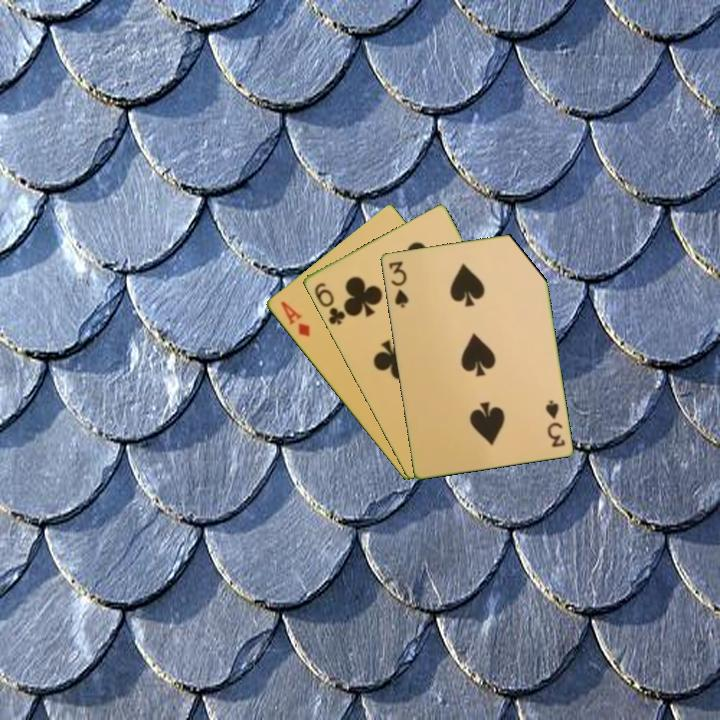3s: (541, 396, 568, 450), (385, 257, 411, 310)
6c: (310, 279, 348, 328)
Ad: (277, 297, 313, 340)
